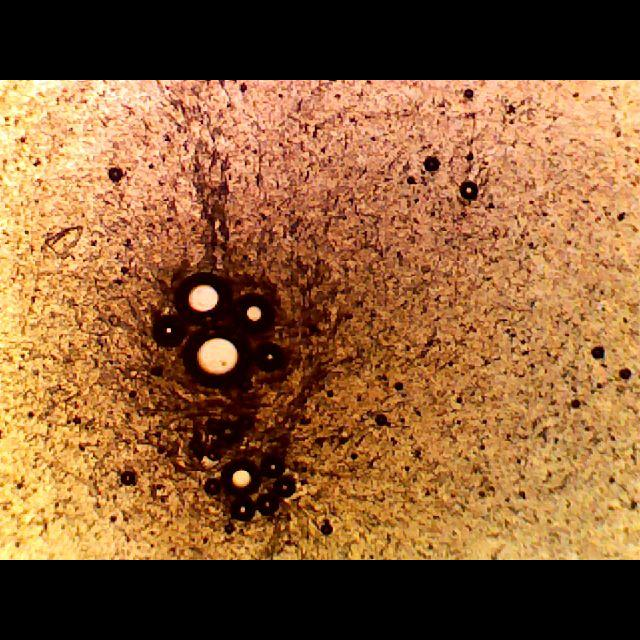microbeads: (171, 269, 235, 331), (230, 291, 280, 339), (146, 310, 192, 352)
